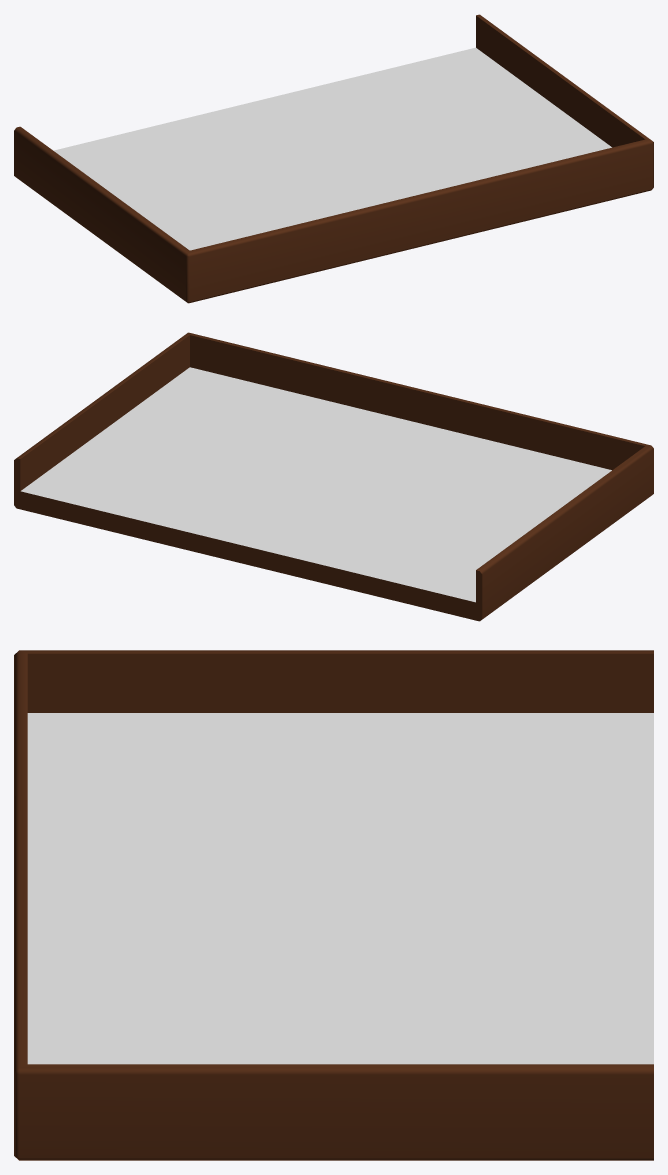
File: SP_House01_Floor02.fbx
3 views of the same model, one above another, from view 1: azimuth 30°, elevation 25°; view 2: azimuth 150°, elevation 25°; view 3: azimuth 270°, elevation 25° (orthographic). The views are drawn at different scales.
Parts seen in each view (by area): view 1: SP_House01_Floor02; view 2: SP_House01_Floor02; view 3: SP_House01_Floor02.
Boxes of the visible parts, <box> form: SP_House01_Floor02: <box>14,14,653,303</box>; SP_House01_Floor02: <box>14,332,653,621</box>; SP_House01_Floor02: <box>14,650,653,1160</box>.
Bounding box in the file's own units: 3.19 × 0.3275 × 2.04.
